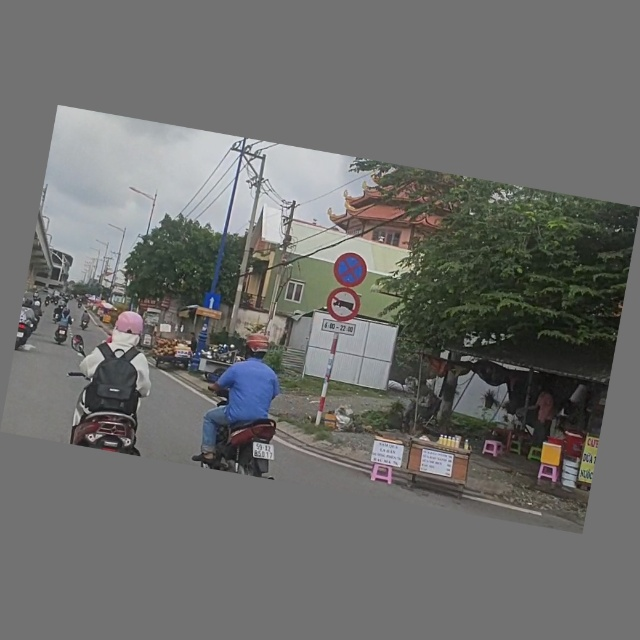B.8a: (324, 287, 362, 325)
I.407a: (202, 291, 222, 312)
P.130: (330, 251, 369, 291)
